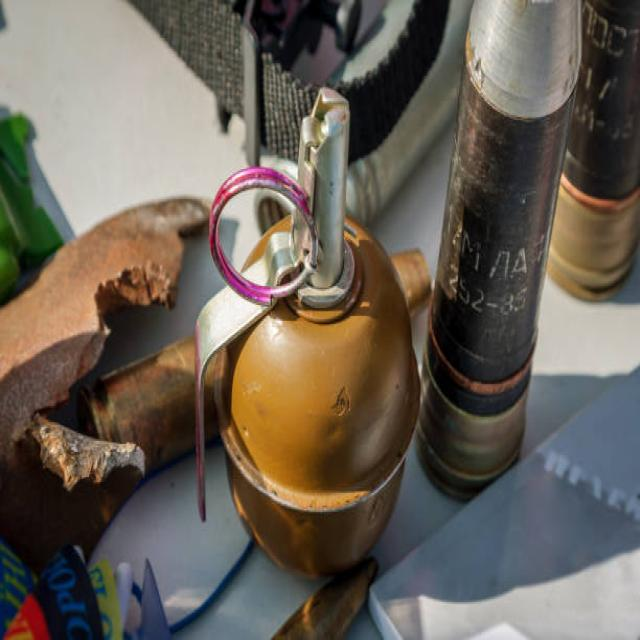grenade: (183, 71, 425, 583)
